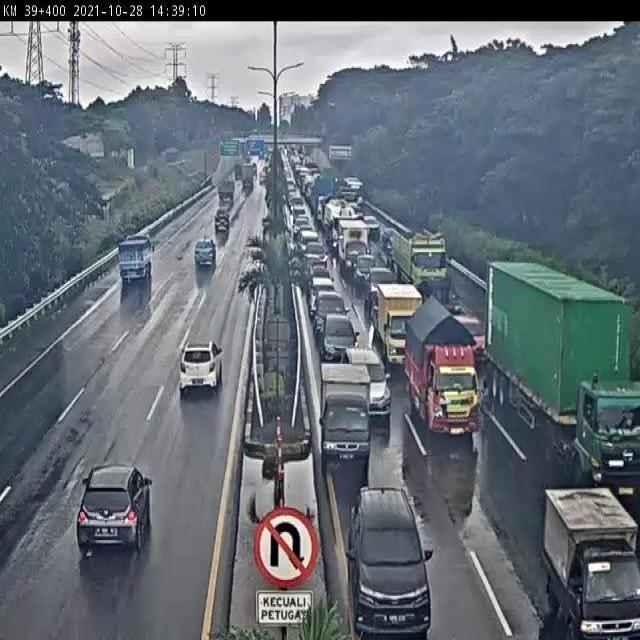big truck: (483, 258, 640, 506), (384, 224, 454, 308)
car: (341, 465, 447, 636), (64, 448, 166, 567), (168, 330, 228, 410), (342, 344, 398, 425), (110, 233, 159, 304), (451, 307, 489, 380), (316, 308, 357, 367), (311, 292, 349, 341), (189, 233, 222, 276), (209, 206, 235, 238)
small truck: (533, 470, 640, 640), (403, 295, 490, 437), (316, 348, 374, 475), (373, 283, 423, 368)
